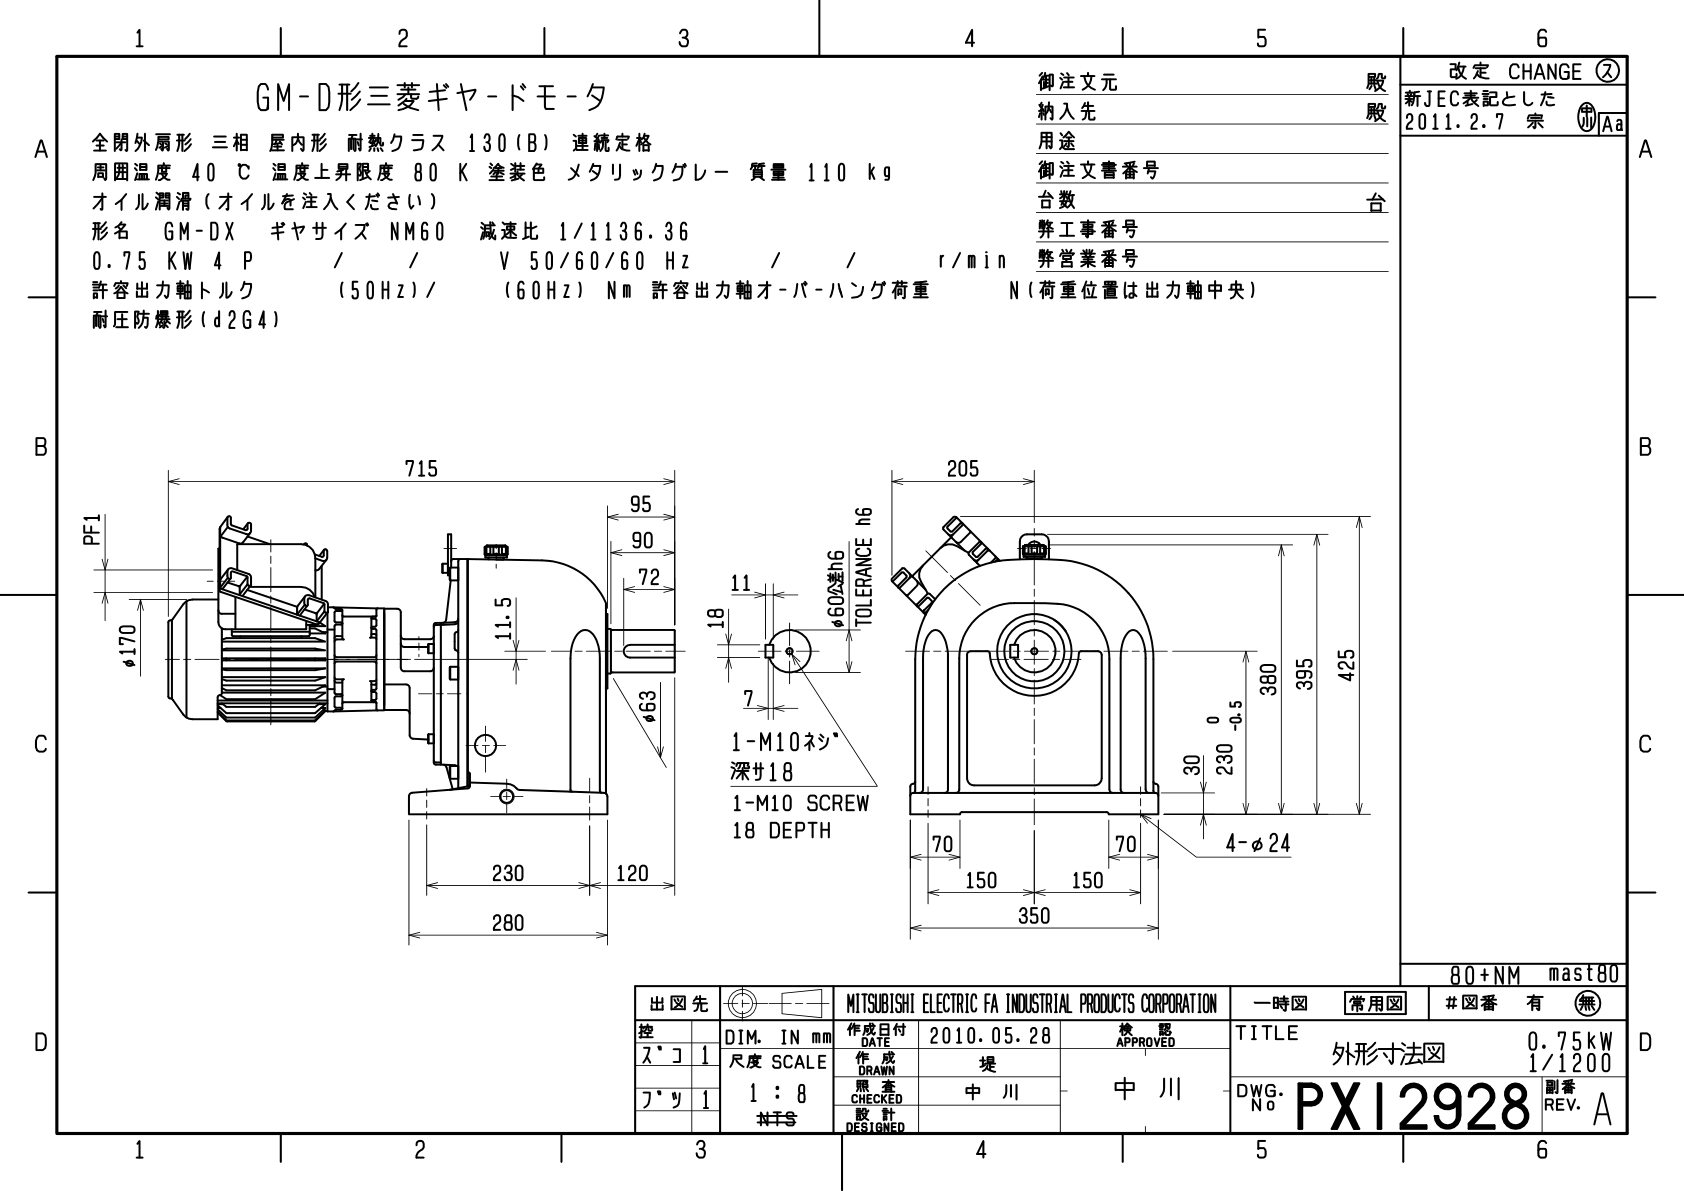GM_D_耐圧屋内_三相_脚: (71, 400, 1385, 965)
